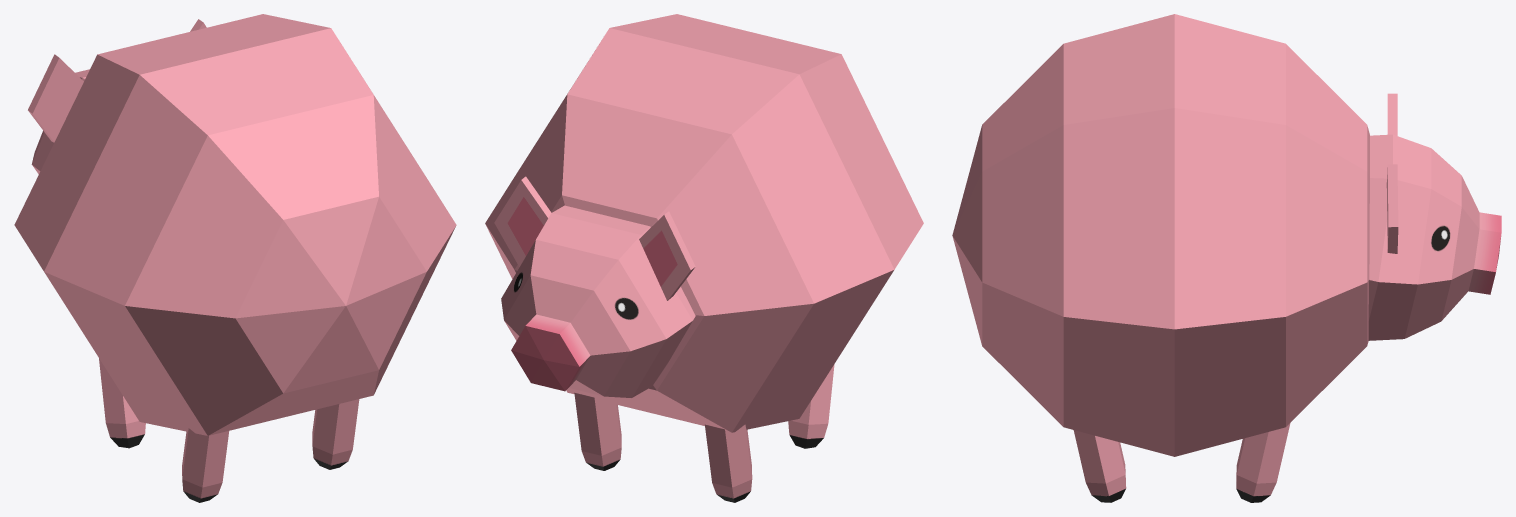
The model's file is Pig_model.fbx.
3 views of the same model, side by side, from view 1: azimuth 30°, elevation 25°; view 2: azimuth 150°, elevation 25°; view 3: azimuth 270°, elevation 25° (orthographic).
Visible parts, largest first — view 1: Pig; view 2: Pig; view 3: Pig.
Boxes of the visible parts, x1,y1,x2,y2 form: Pig: (14,14,456,502); Pig: (485,14,923,502); Pig: (952,14,1501,502).
Size of the model in its own units: 170 by 173 by 210.
